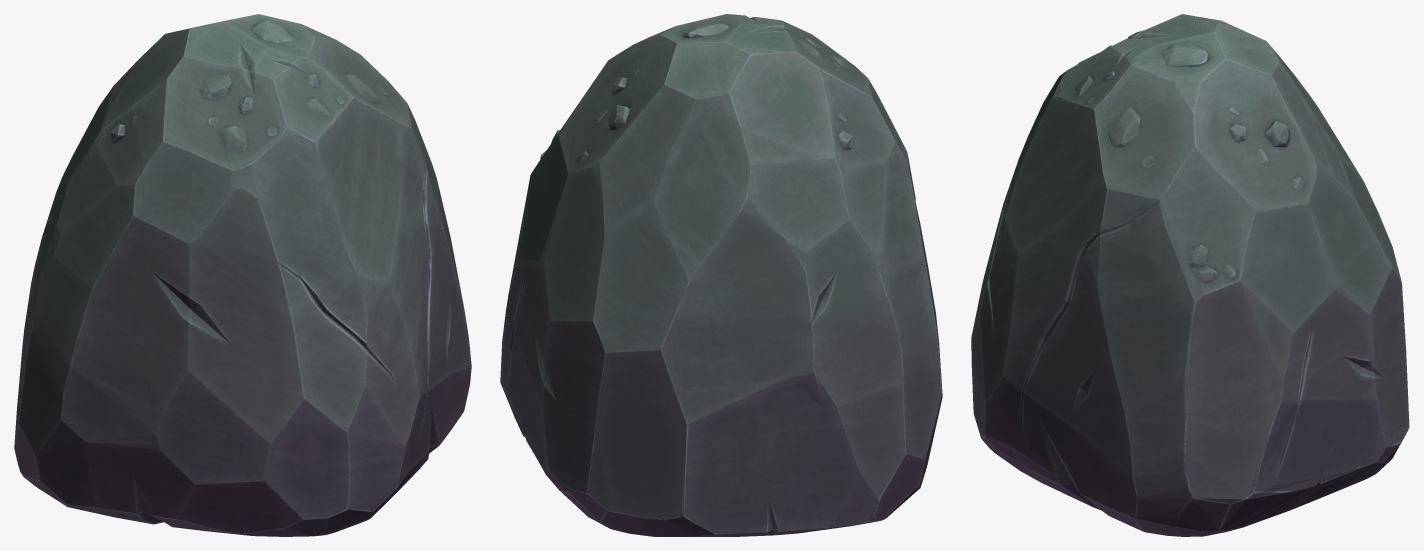
Rendered from hard_rock.gltf.
3 renders of one model, left to right at view 1: azimuth 30°, elevation 25°; view 2: azimuth 150°, elevation 25°; view 3: azimuth 270°, elevation 25°, orthographic. The views are drawn at different scales.
Parts seen in each view (by area): view 1: defaultMaterial; view 2: defaultMaterial; view 3: defaultMaterial.
Part boxes in pixels (x1=…): defaultMaterial: x1=14, y1=14, x2=471, y2=536; defaultMaterial: x1=500, y1=14, x2=942, y2=536; defaultMaterial: x1=971, y1=14, x2=1409, y2=536.
Size of the model in its own units: 2 by 2 by 1.88.
Materials: 1 (1 with a texture image).
